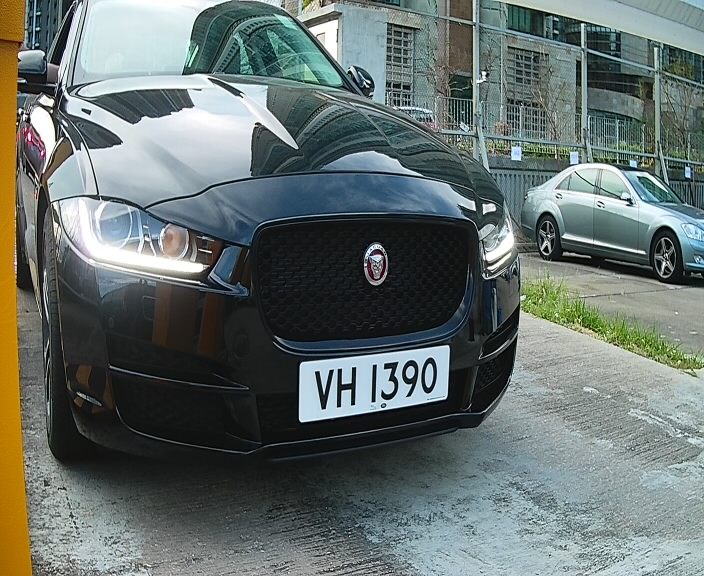Car: (5, 2, 531, 499)
License Plate: (290, 338, 456, 430)
